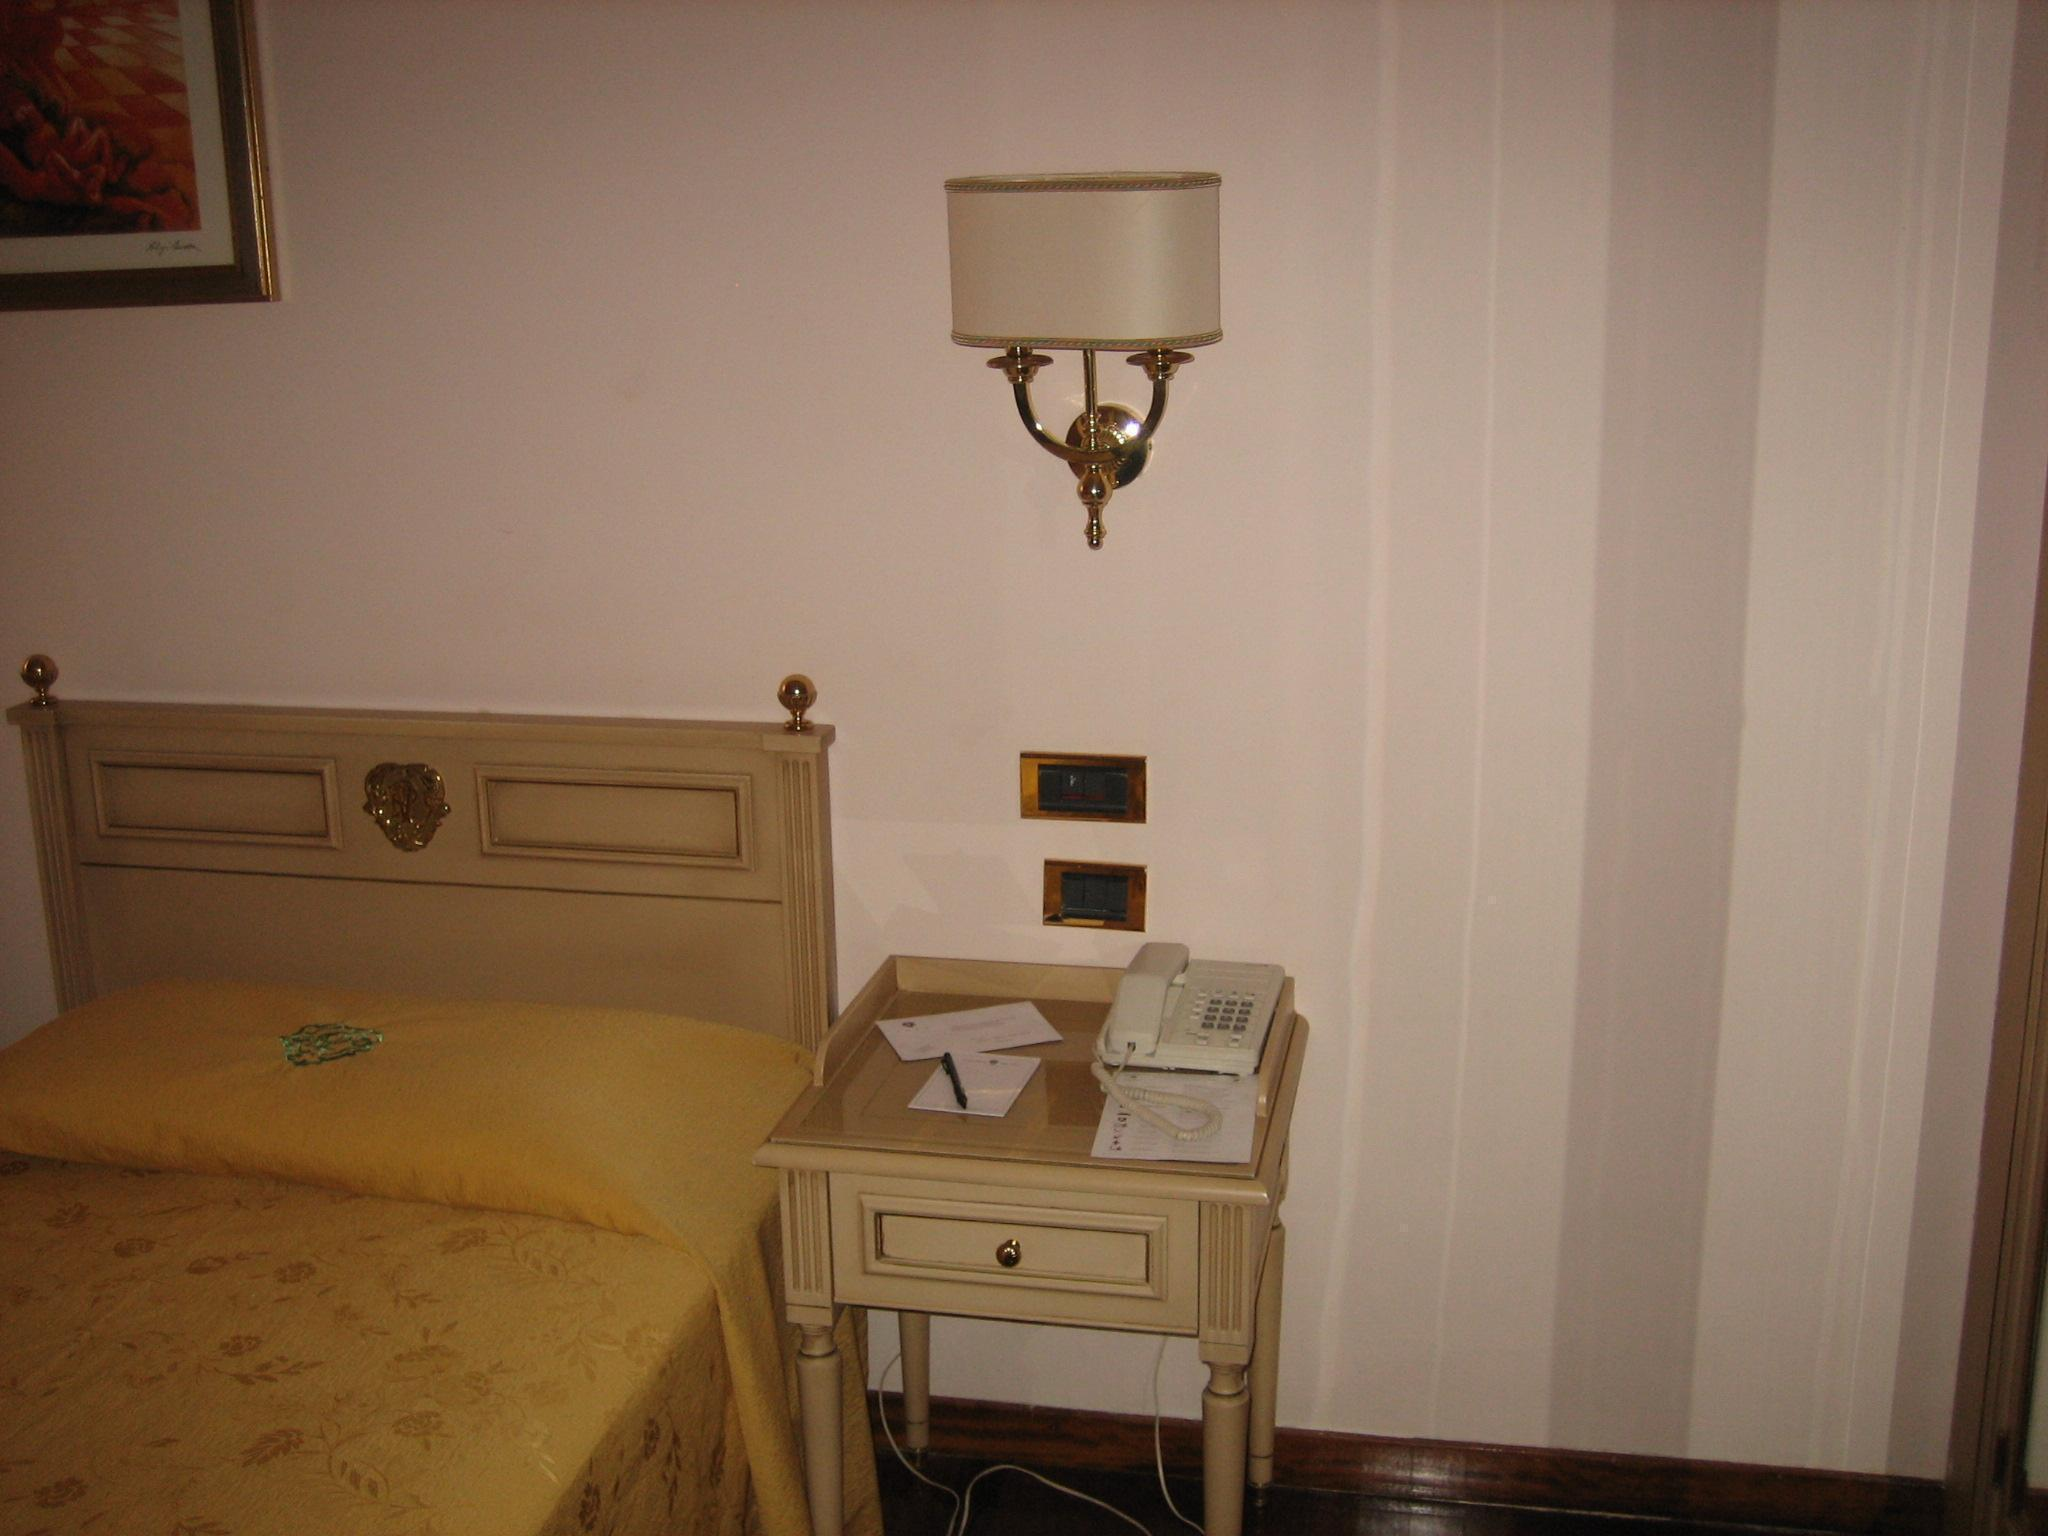Cama: (11, 682, 863, 1523)
